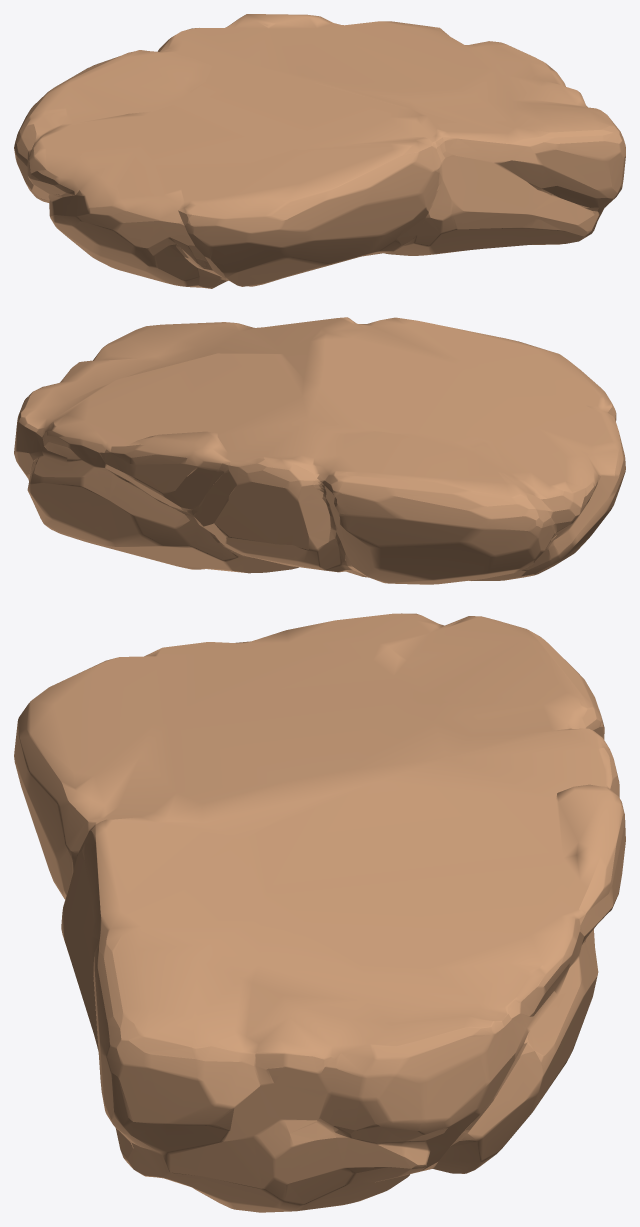
3 views of the same model, one above another, from view 1: azimuth 30°, elevation 25°; view 2: azimuth 150°, elevation 25°; view 3: azimuth 270°, elevation 25° (orthographic). The views are drawn at different scales.
Parts seen in each view (by area): view 1: Mesh_52_LOD0; view 2: Mesh_52_LOD0; view 3: Mesh_52_LOD0.
Part boxes in pixels (left/top/right/bottom): Mesh_52_LOD0: left=14, top=14, right=625, bottom=288; Mesh_52_LOD0: left=14, top=317, right=625, bottom=584; Mesh_52_LOD0: left=14, top=613, right=625, bottom=1212.
Size of what is drawn, in the model's own units: 2905 by 961 by 1892.
